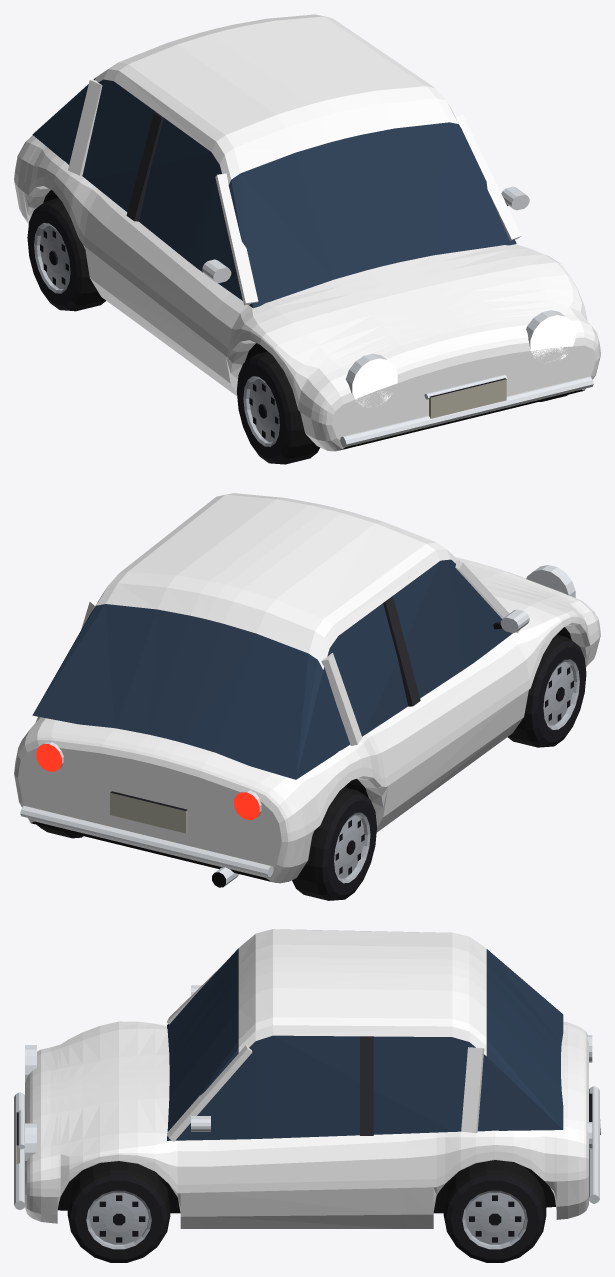
The model's file is micro.glb.
3 views of the same model, one above another, from view 1: azimuth 30°, elevation 25°; view 2: azimuth 150°, elevation 25°; view 3: azimuth 270°, elevation 25° (orthographic). The views are drawn at different scales.
Parts seen in each view (by area): view 1: paint, glass, stripe_a, tire_side (×2), chrome, rim (×2), stripe_b, tire (×2), headlight, plate, trim_soft, trim_under; view 2: glass, paint, stripe_a, tire_side (×2), chrome, rim (×2), tire (×2), stripe_b, plate, trim_soft, trim_under, taillight; view 3: paint, glass, stripe_a, tire_side (×2), rim (×2), stripe_b, chrome, tire (×2), trim_soft, trim_under.
Boxes of the visible parts, bbox=[...] form: paint: bbox=[14, 80, 600, 451]; glass: bbox=[32, 77, 516, 308]; stripe_a: bbox=[95, 14, 513, 376]; tire_side (×2): bbox=[27, 204, 319, 463]; chrome: bbox=[202, 186, 593, 447]; rim (×2): bbox=[34, 223, 279, 446]; stripe_b: bbox=[14, 172, 600, 425]; tire (×2): bbox=[41, 198, 319, 464]; headlight: bbox=[352, 315, 575, 407]; plate: bbox=[429, 379, 506, 418]; trim_soft: bbox=[126, 112, 163, 221]; trim_under: bbox=[43, 190, 583, 450]; glass: bbox=[32, 559, 512, 779]; paint: bbox=[14, 557, 600, 883]; stripe_a: bbox=[92, 493, 504, 777]; tire_side (×2): bbox=[292, 641, 586, 900]; chrome: bbox=[20, 565, 575, 886]; rim (×2): bbox=[334, 659, 579, 883]; tire (×2): bbox=[292, 634, 572, 900]; stripe_b: bbox=[14, 618, 600, 841]; plate: bbox=[110, 792, 187, 833]; trim_soft: bbox=[383, 597, 420, 706]; trim_under: bbox=[31, 627, 571, 887]; taillight: bbox=[36, 744, 259, 819]; paint: bbox=[25, 944, 588, 1228]; glass: bbox=[167, 948, 563, 1140]; stripe_a: bbox=[25, 929, 588, 1123]; tire_side (×2): bbox=[70, 1175, 544, 1262]; rim (×2): bbox=[86, 1190, 527, 1249]; stripe_b: bbox=[25, 1151, 588, 1196]; chrome: bbox=[14, 985, 600, 1209]; tire (×2): bbox=[67, 1160, 546, 1246]; trim_soft: bbox=[360, 1036, 373, 1135]; trim_under: bbox=[58, 1162, 555, 1213].
Bounding box in the file's own units: 1.92 × 1.52 × 3.44.
